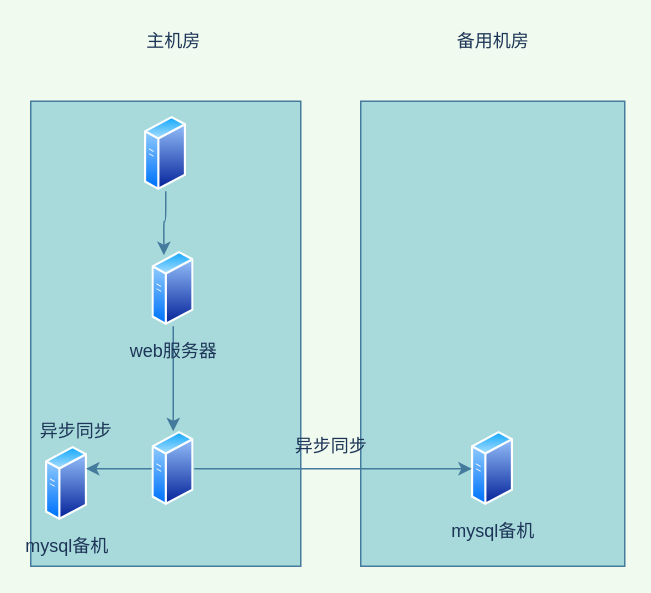
Some shapes in this 651 by 593 pixel diagram are drawn without their labels. Here are the shapes that lost their labels. From the top down, the centre of each, then its label:
At pixel 165 153: "nginx".
At pixel 173 468: "主mysql".
